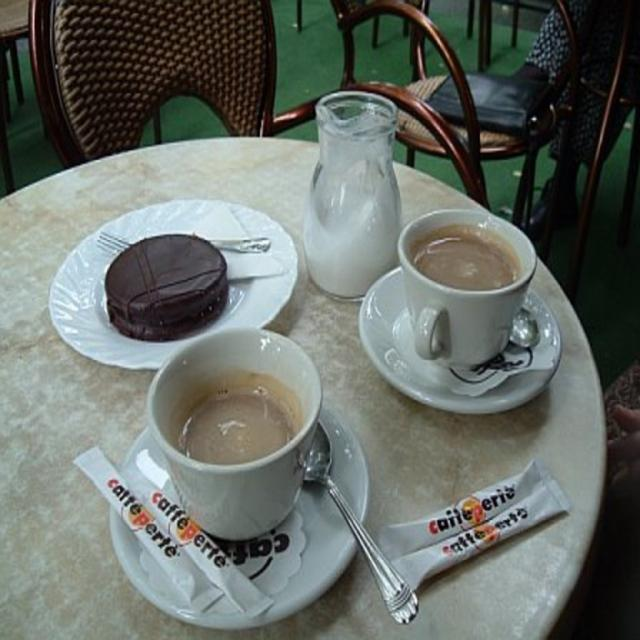Coffee: (132, 328, 344, 548), (410, 230, 523, 299)
Tea: (170, 373, 301, 465), (407, 227, 520, 289)
